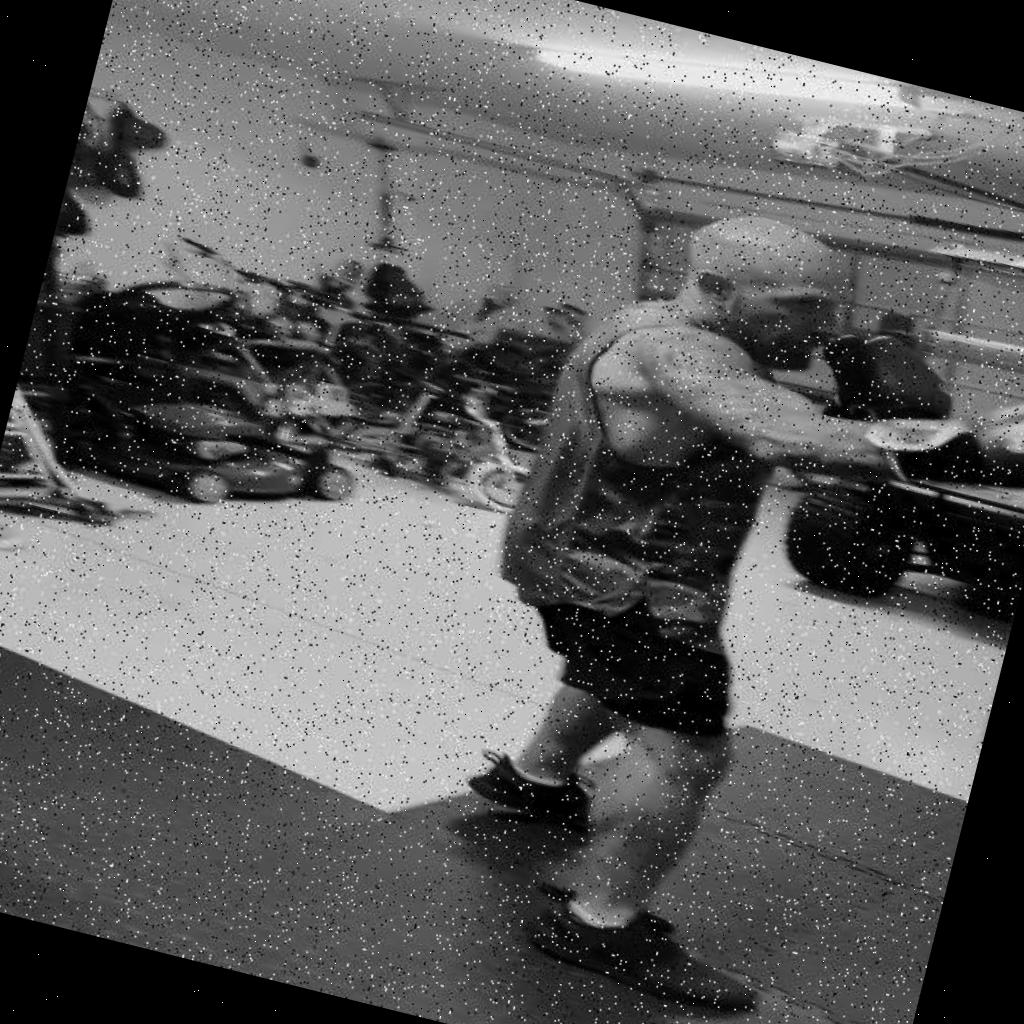jab: (529, 152, 1024, 655)
